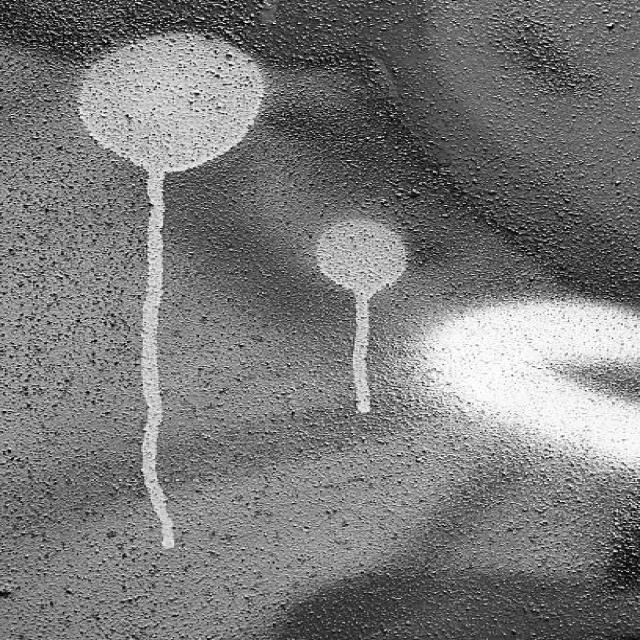paint drips: (124, 164, 184, 557), (339, 285, 378, 443)
